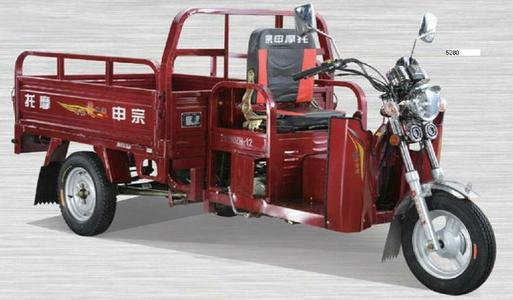tricycle: (10, 2, 497, 287)
